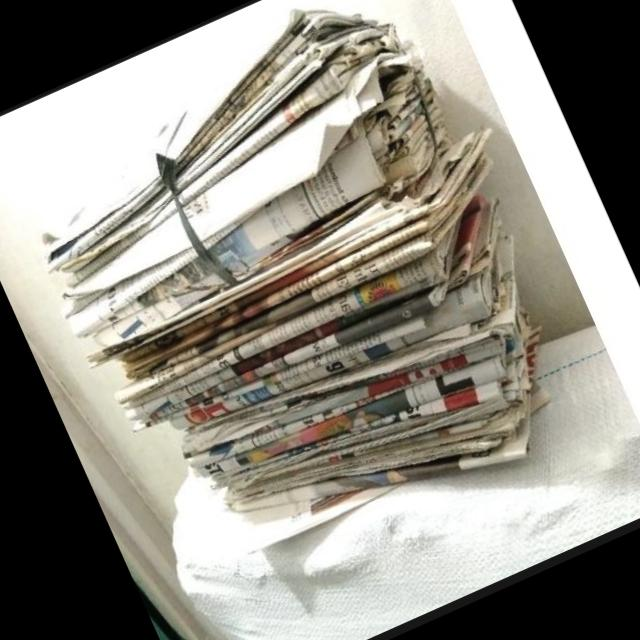Koran: (0, 0, 621, 606)
